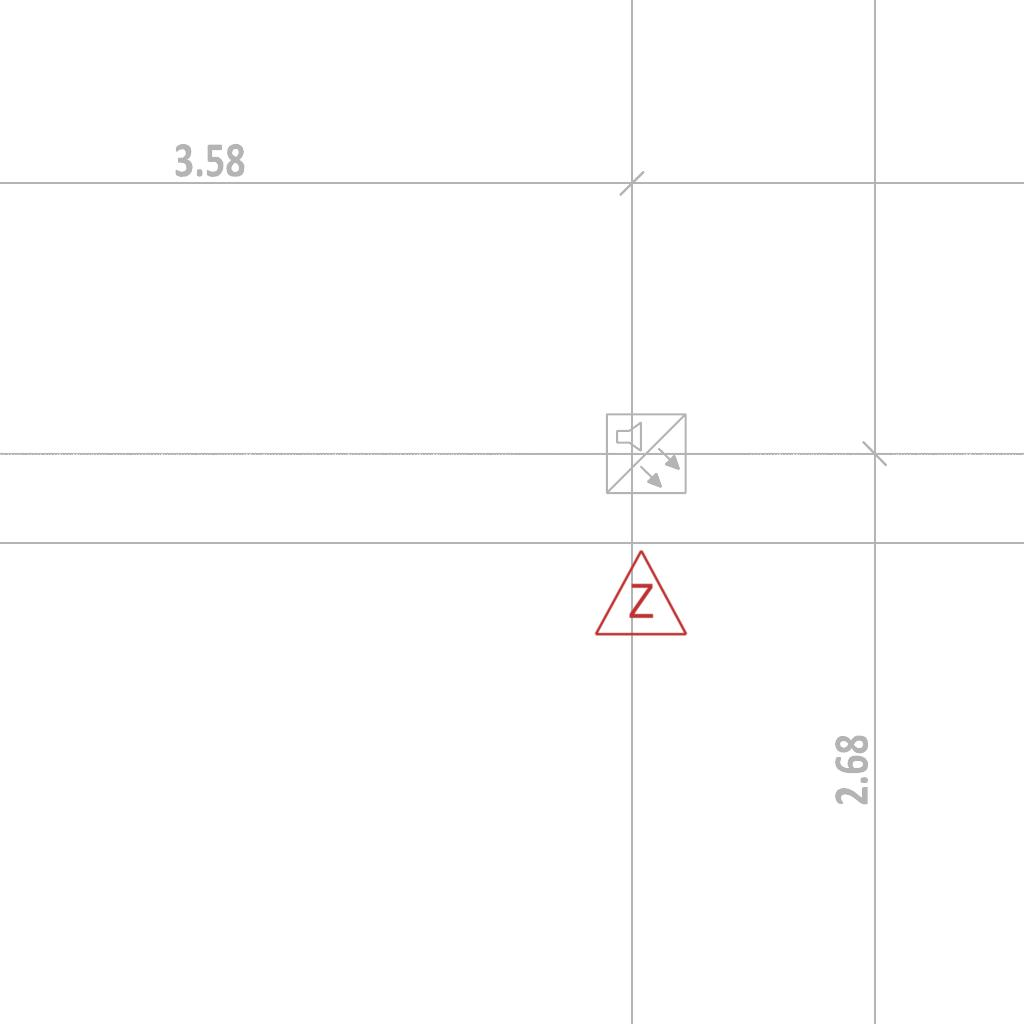Zimmersignalleuchte: (591, 543, 689, 643)
